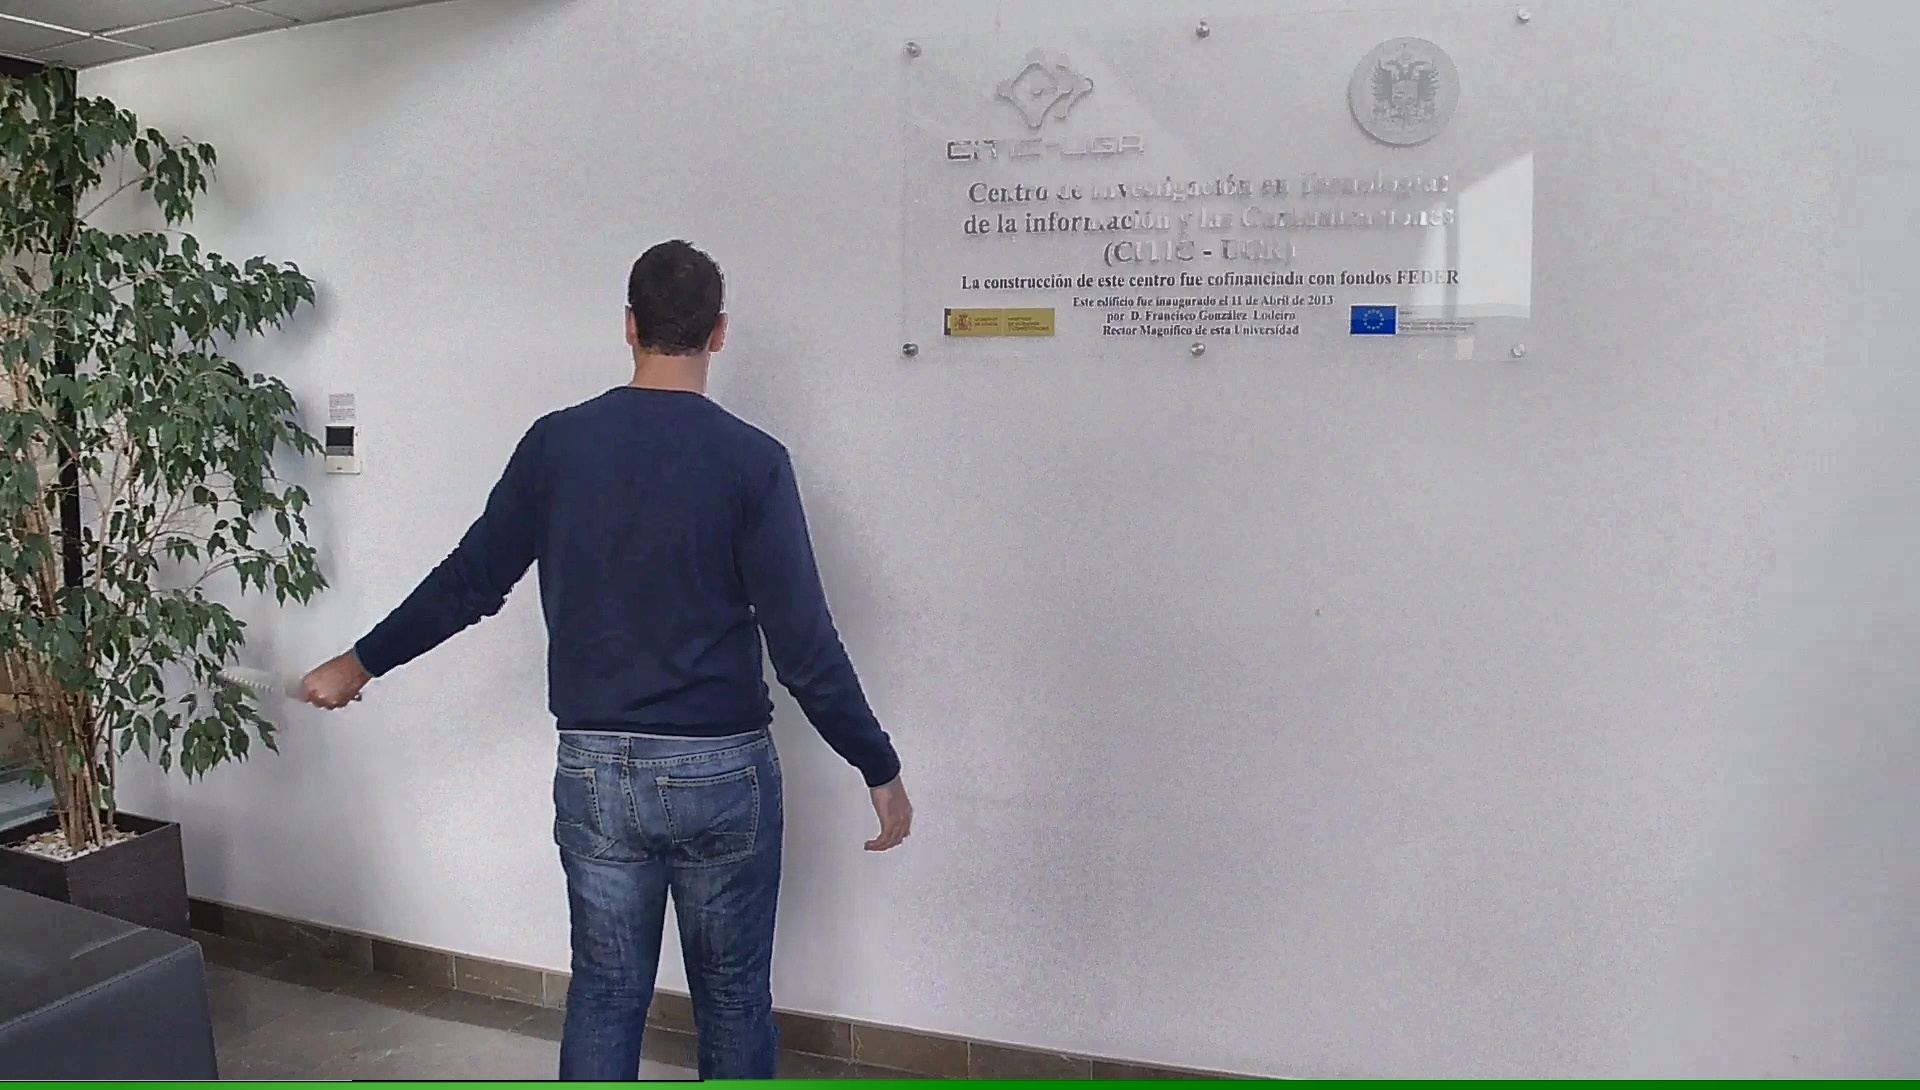knife: (204, 655, 372, 716)
